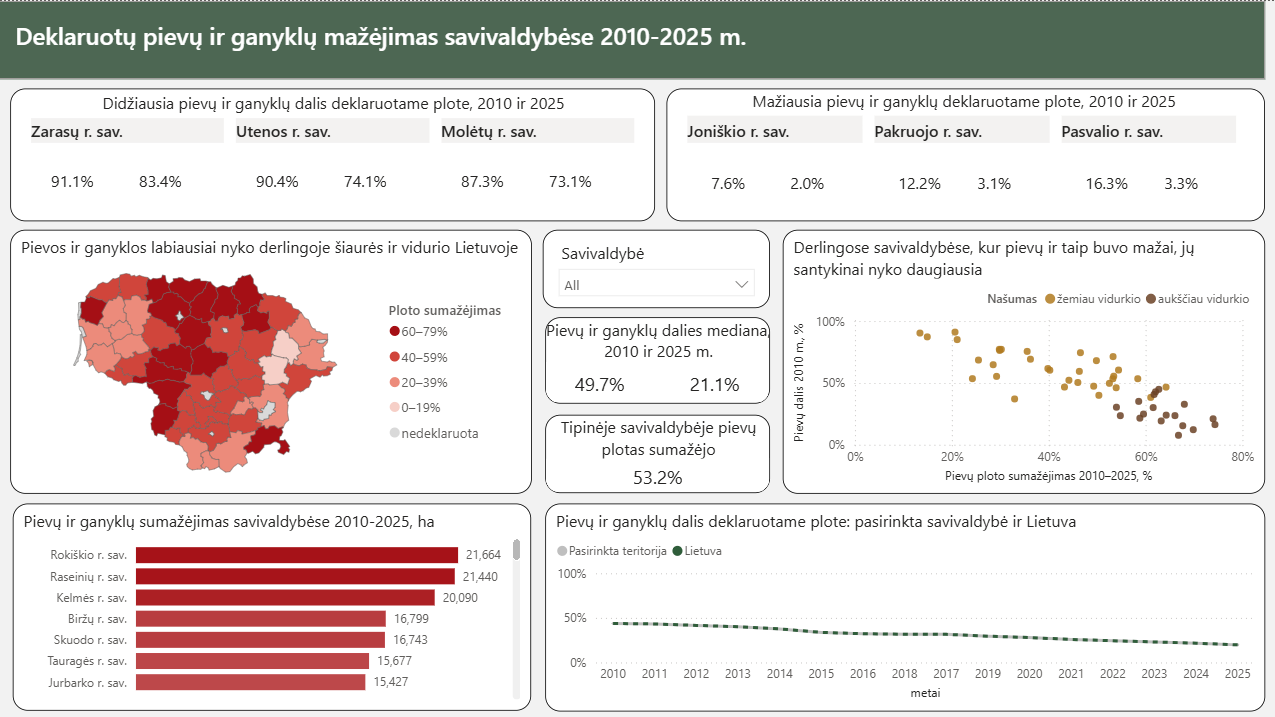

The page's visual inventory and layout, read from the dashboard file:
{"tool":"powerbi","page":{"name":"2.  Savivaldybės","canvas":[1280,720],"ordinal":1},"visuals":[{"type":"shape","box":[0,0,1266.2,78.8],"z":0},{"type":"textbox","box":[11.7,13.3,833.3,53.3],"z":1000},{"type":"shapeMap","fields":{"Category":["sav_map.shapeName"],"Series":["sav_map.legend"]},"box":[11.4,228.6,521.4,264.3],"z":2000},{"type":"barChart","title":"Pievų ir ganyklų sumažėjimas savivaldybėse 2010-2025, ha","fields":{"Category":["LTterit.rajonas"],"Y":["_measures.PGha20102025pokytis"]},"box":[13.8,502.5,518.8,207.5],"z":4000},{"type":"cardVisual","title":"Tipinėje savivaldybėje pievų plotas sumažėjo","fields":{"Data":["_measures.Mediana_pp"]},"box":[546.2,413.8,225,78.8],"z":5000},{"type":"cardVisual","title":"Didžiausia pievų ir ganyklų dalis deklaruotame plote, 2010 ir 2025","fields":{"Data":["_measures.PGdalis2010","_measures.PGdalis2025"],"Rows":["final20102025.rajonas"]},"box":[11.2,87.5,645,132.5],"z":6000},{"type":"cardVisual","title":"Mažiausia pievų ir ganyklų deklaruotame plote, 2010 ir 2025","fields":{"Data":["_measures.PGdalis2010","_measures.PGdalis2025"],"Rows":["final20102025.rajonas"]},"box":[667.1,87.1,598.6,132.9],"z":7000},{"type":"cardVisual","title":"Pievų ir ganyklų dalies mediana, 2010 ir 2025 m.","fields":{"Data":["_measures.Mediana_PGdalis2010dekl","_measures.Mediana_PGdalis2025dekl"]},"box":[546.2,316.2,225,86.2],"z":8000},{"type":"lineChart","title":"Pievų ir ganyklų  dalis deklaruotame plote: pasirinkta savivaldybė ir Lietuva","fields":{"Category":["final20102025.metai"],"Y":["_measures.PGdalis","_measures.PGdalis_LT"]},"box":[546.7,502.2,720,207.8],"z":9000},{"type":"slicer","fields":{"Values":["sav_map.rajonas"]},"box":[543.8,228.8,227.5,78.8],"z":9501},{"type":"scatterChart","title":"Derlingose savivaldybėse, kur pievų ir taip buvo mažai, jų santykinai nyko daugiausia","fields":{"Category":["final20102025.rajonas"],"Series":["našumas_sav.našumas_dummy"],"X":["_measures.PGproc20102025-"],"Y":["_measures.PGdalis2010"]},"box":[783.8,228.8,482.5,263.8],"z":10001}]}

Visuals, with their boxes in screenshot pixels (x1, y1, x2, y2), scaled from the page's 1280x720 canvas onto the 1275x717 screenshot:
shape: <bbox>0, 0, 1261, 78</bbox>
textbox: <bbox>12, 13, 842, 66</bbox>
shapeMap - sav_map.shapeName x sav_map.legend: <bbox>11, 228, 531, 491</bbox>
"Pievų ir ganyklų sumažėjimas savivaldybėse 2010-2025, ha" barChart: <bbox>14, 500, 531, 707</bbox>
"Tipinėje savivaldybėje pievų plotas sumažėjo" cardVisual: <bbox>544, 412, 768, 491</bbox>
"Didžiausia pievų ir ganyklų dalis deklaruotame plote, 2010 ir 2025" cardVisual: <bbox>11, 87, 654, 219</bbox>
"Mažiausia pievų ir ganyklų deklaruotame plote, 2010 ir 2025" cardVisual: <bbox>664, 87, 1261, 219</bbox>
"Pievų ir ganyklų dalies mediana, 2010 ir 2025 m." cardVisual: <bbox>544, 315, 768, 401</bbox>
"Pievų ir ganyklų  dalis deklaruotame plote: pasirinkta savivaldybė ir Lietuva" lineChart: <bbox>545, 500, 1262, 707</bbox>
slicer - sav_map.rajonas: <bbox>542, 228, 768, 306</bbox>
"Derlingose savivaldybėse, kur pievų ir taip buvo mažai, jų santykinai nyko daugiausia" scatterChart: <bbox>781, 228, 1261, 491</bbox>
